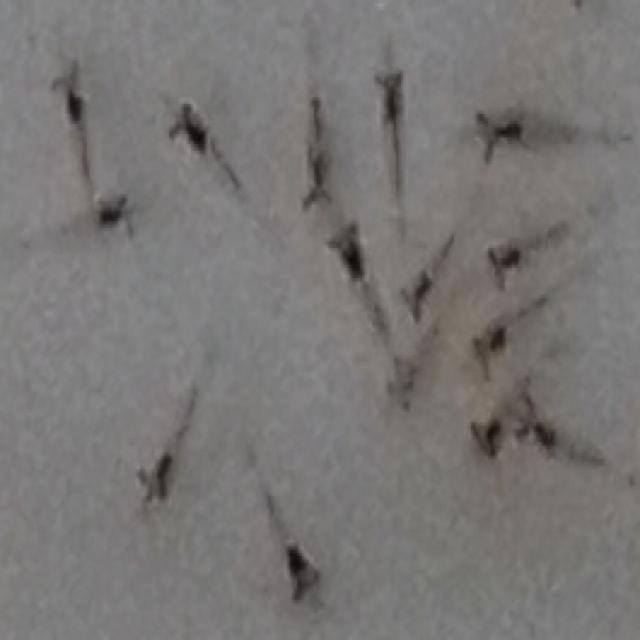shrimp-seed: (295, 106, 337, 214), (370, 77, 410, 179), (281, 538, 329, 616), (382, 342, 428, 416), (324, 224, 373, 292), (474, 104, 530, 160), (164, 98, 210, 160), (516, 392, 560, 456), (134, 446, 177, 511), (48, 59, 88, 127), (468, 318, 513, 376), (90, 187, 135, 239), (396, 266, 439, 320), (483, 238, 527, 290), (471, 409, 506, 464)
